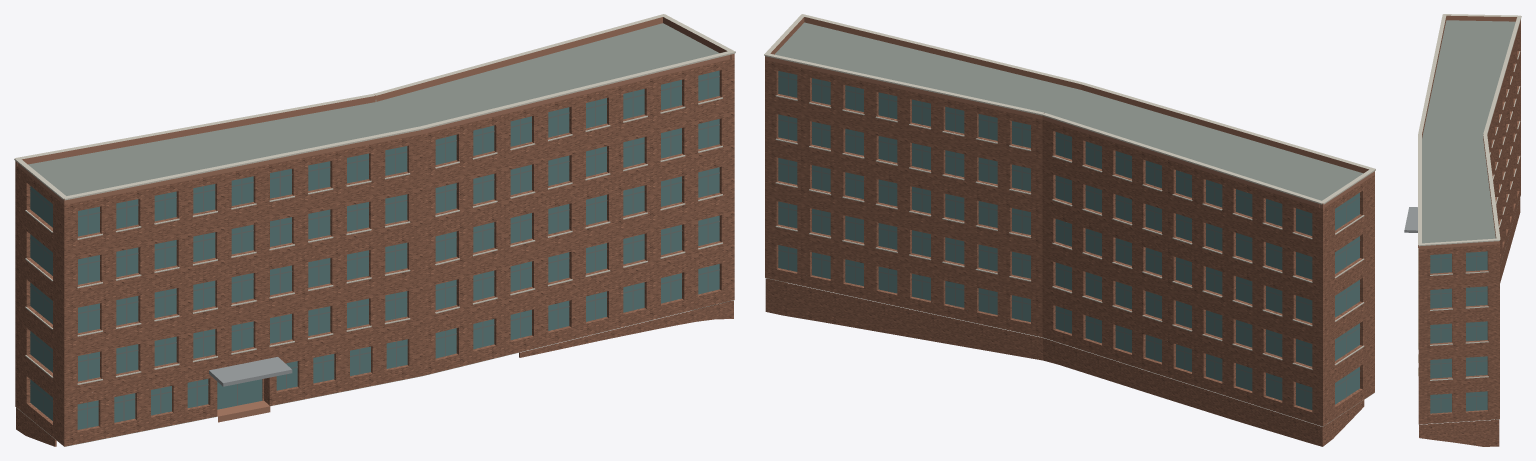
3 renders of one model, left to right at view 1: azimuth 30°, elevation 25°; view 2: azimuth 150°, elevation 25°; view 3: azimuth 270°, elevation 25°, orthographic. The views are drawn at different scales.
Visible parts, largest first — view 1: dormD__wall, dormD__glass, dormD__roof, dormD__trim, dormD__parapet, dormD__frame, dormD__foundationSkirt, dormD__canopy, dormD__entranceThreshold_0; view 2: dormD__wall, dormD__glass, dormD__roof, dormD__foundationSkirt, dormD__trim, dormD__parapet, dormD__frame; view 3: dormD__wall, dormD__roof, dormD__glass, dormD__trim, dormD__foundationSkirt, dormD__parapet, dormD__frame, dormD__canopy.
Boxes of the visible parts, x1=… form: dormD__wall: x1=15, y1=58, x2=734, y2=446; dormD__glass: x1=30, y1=70, x2=719, y2=429; dormD__roof: x1=16, y1=23, x2=734, y2=446; dormD__trim: x1=14, y1=14, x2=735, y2=384; dormD__parapet: x1=15, y1=17, x2=734, y2=204; dormD__frame: x1=30, y1=73, x2=719, y2=428; dormD__foundationSkirt: x1=16, y1=300, x2=733, y2=446; dormD__canopy: x1=209, y1=357, x2=292, y2=386; dormD__entranceThreshold_0: x1=217, y1=400, x2=270, y2=422; dormD__wall: x1=765, y1=60, x2=1374, y2=426; dormD__glass: x1=778, y1=71, x2=1359, y2=409; dormD__roof: x1=766, y1=22, x2=1373, y2=426; dormD__foundationSkirt: x1=765, y1=278, x2=1364, y2=446; dormD__trim: x1=764, y1=14, x2=1375, y2=369; dormD__parapet: x1=765, y1=17, x2=1374, y2=208; dormD__frame: x1=778, y1=73, x2=1360, y2=407; dormD__wall: x1=1418, y1=21, x2=1520, y2=424; dormD__roof: x1=1419, y1=20, x2=1515, y2=424; dormD__glass: x1=1430, y1=251, x2=1487, y2=413; dormD__trim: x1=1418, y1=14, x2=1521, y2=380; dormD__foundationSkirt: x1=1419, y1=198, x2=1520, y2=446; dormD__parapet: x1=1418, y1=15, x2=1520, y2=249; dormD__frame: x1=1430, y1=252, x2=1487, y2=412; dormD__canopy: x1=1404, y1=207, x2=1417, y2=232.
Size of the model in its own units: 49.61 by 20.7 by 10.62.
10 materials, 2 textured.
